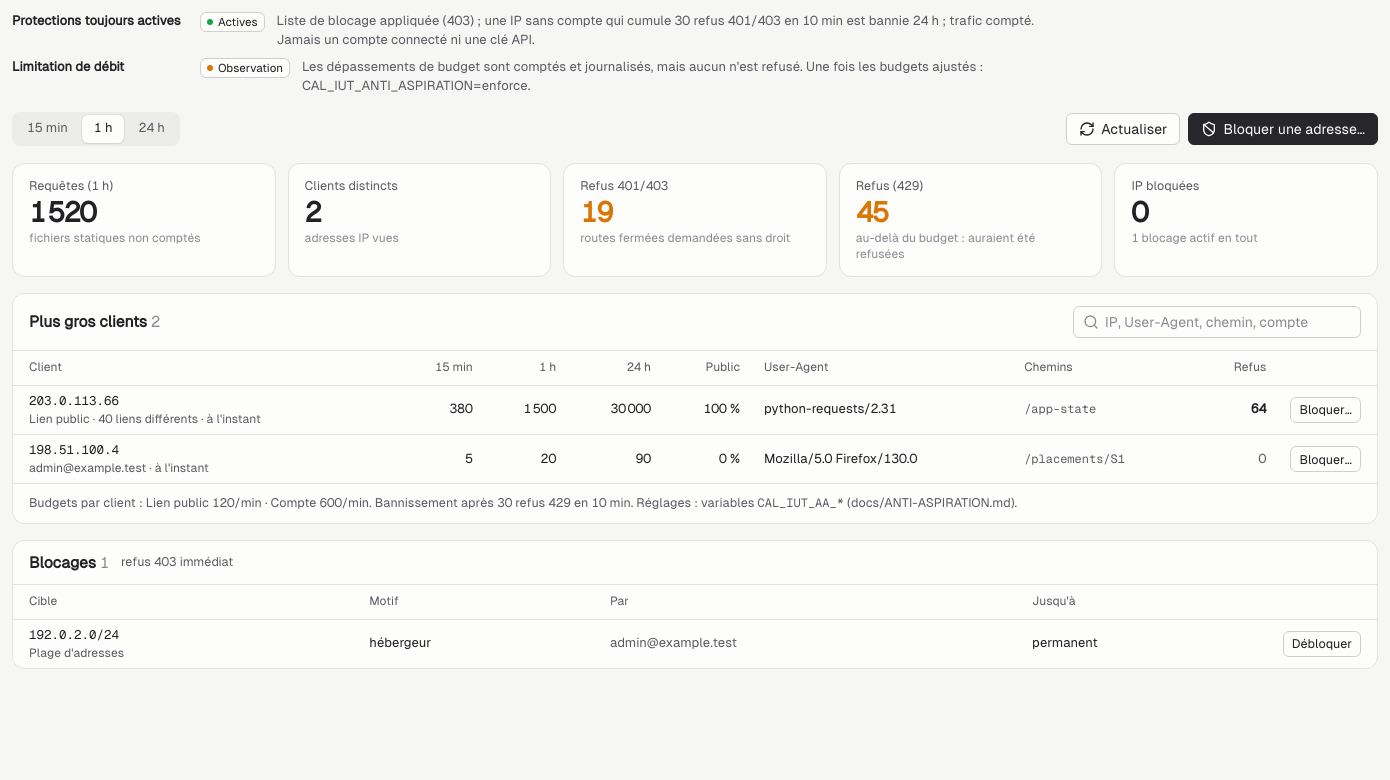
Test case: TraficView › débloque
The image size is (1390, 780).
Expected: the text "Observation" is shown, [200,58,290,78]
Click the button with aria-label "Débloquer 192.0.2.0/24" at (1322, 644), box [1283,631,1361,657]
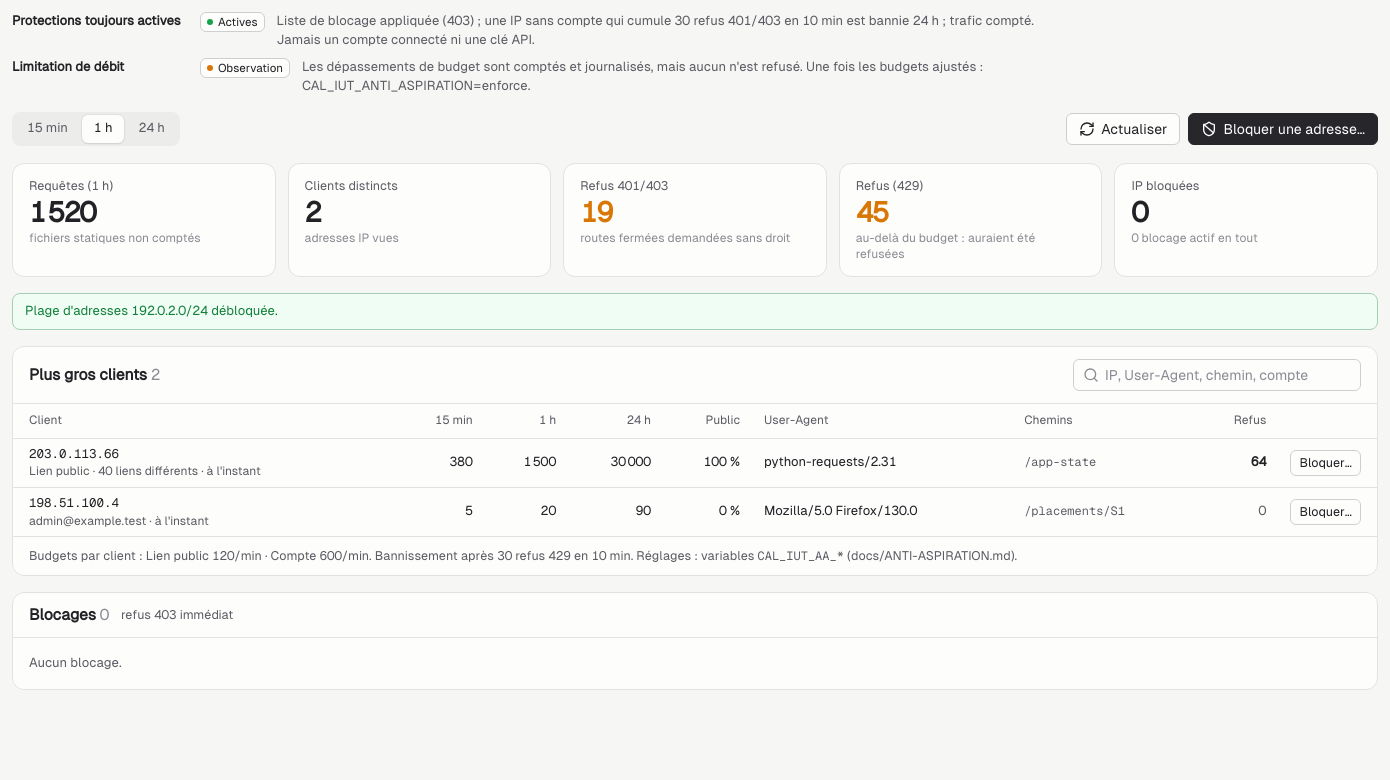
Expected: the text "Plage d'adresses 192.0.2.0/24 débloquée." is shown, [12,293,1378,330]
Expected: the text "Aucun blocage." is shown, [29,655,122,670]
